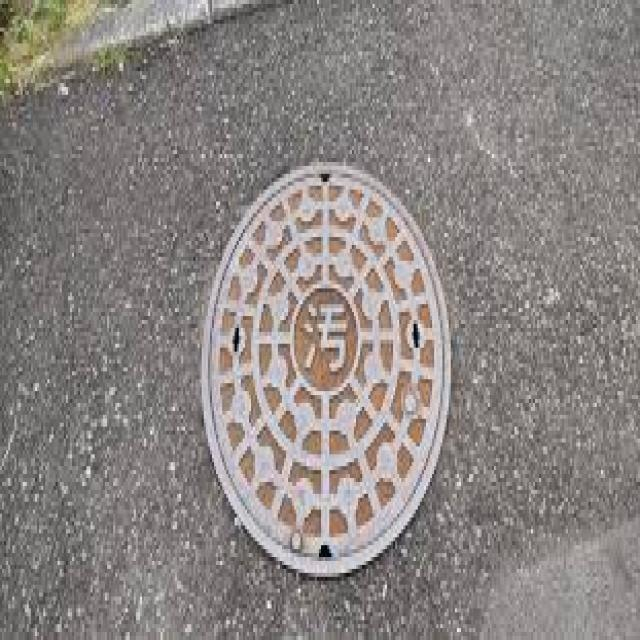manhole: (198, 159, 451, 577)
